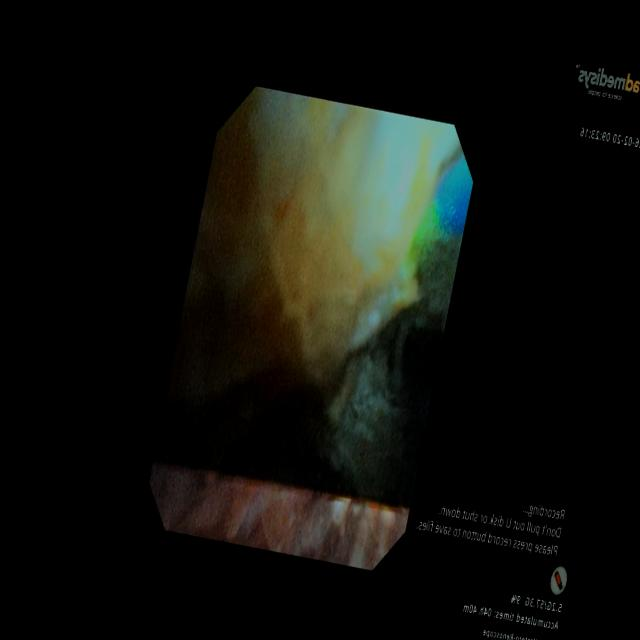stone-new: (165, 87, 462, 409), (310, 222, 465, 503)
